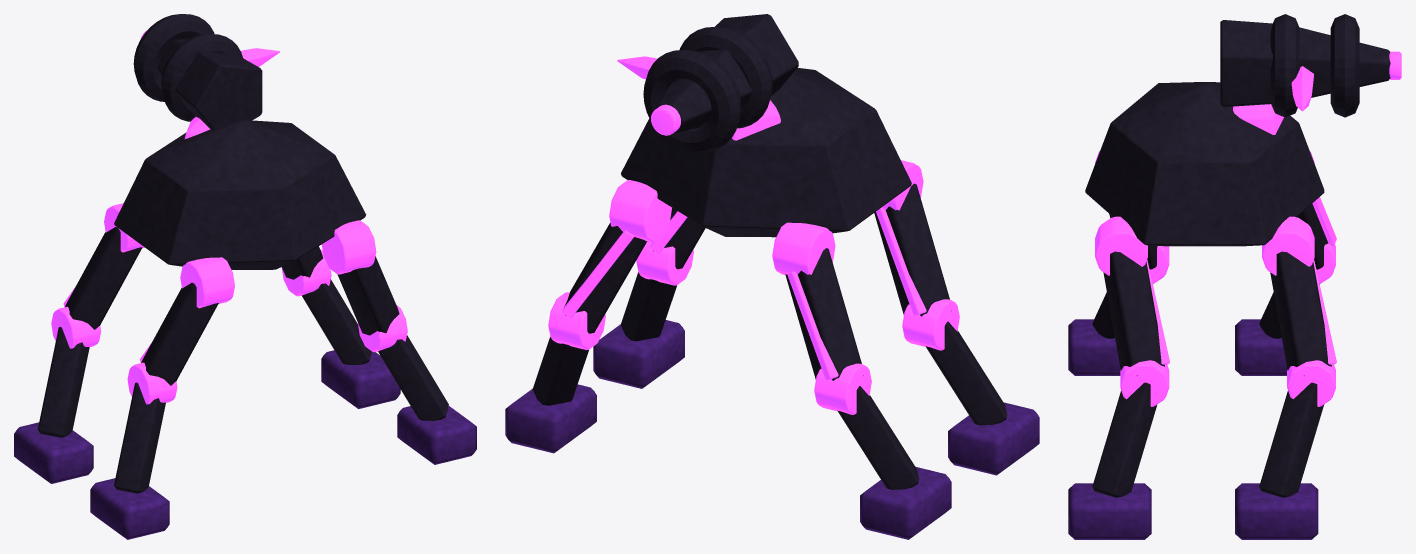
The model's file is conclave_geode.gltf.
3 renders of one model, left to right at view 1: azimuth 30°, elevation 25°; view 2: azimuth 150°, elevation 25°; view 3: azimuth 270°, elevation 25°, orthographic. The views are drawn at different scales.
Parts seen in each view (by area): view 1: Body.008_Geometry, GunRecoil.009_Geometry, Hip_L0_Geometry, Hip_R0_Geometry, Knee_L0_Geometry, Knee_L1_Geometry, Hip_L1_Geometry, Knee_R0_Geometry, Knee_R1_Geometry, Foot_L0_Geometry, Foot_L1_Geometry, Foot_R0_Geometry (+2 smaller); view 2: Body.008_Geometry, GunRecoil.009_Geometry, Hip_L1_Geometry, Hip_R1_Geometry, Hip_L0_Geometry, Knee_L0_Geometry, Knee_L1_Geometry, Foot_L0_Geometry, Foot_L1_Geometry, Knee_R1_Geometry, Foot_R1_Geometry, Foot_R0_Geometry (+2 smaller); view 3: Body.008_Geometry, GunRecoil.009_Geometry, Hip_R0_Geometry, Hip_R1_Geometry, Knee_R0_Geometry, Knee_R1_Geometry, Foot_R1_Geometry, Foot_R0_Geometry, Foot_L0_Geometry, Foot_L1_Geometry, Hip_L1_Geometry, Knee_L0_Geometry (+1 smaller).
Boxes of the visible parts, bbox=[...] form: Body.008_Geometry: bbox=[114, 117, 366, 269]; GunRecoil.009_Geometry: bbox=[133, 14, 279, 130]; Hip_L0_Geometry: bbox=[140, 257, 234, 385]; Hip_R0_Geometry: bbox=[321, 220, 399, 335]; Knee_L0_Geometry: bbox=[114, 362, 177, 493]; Knee_L1_Geometry: bbox=[37, 306, 101, 437]; Hip_L1_Geometry: bbox=[63, 203, 144, 329]; Knee_R0_Geometry: bbox=[358, 305, 448, 420]; Knee_R1_Geometry: bbox=[281, 249, 371, 364]; Foot_L0_Geometry: bbox=[90, 478, 169, 539]; Foot_L1_Geometry: bbox=[14, 422, 93, 483]; Foot_R0_Geometry: bbox=[397, 406, 476, 464]; Body.008_Geometry: bbox=[621, 67, 911, 237]; GunRecoil.009_Geometry: bbox=[617, 14, 798, 151]; Hip_L1_Geometry: bbox=[772, 222, 863, 380]; Hip_R1_Geometry: bbox=[562, 180, 671, 333]; Hip_L0_Geometry: bbox=[874, 160, 951, 316]; Knee_L0_Geometry: bbox=[902, 299, 1007, 425]; Knee_L1_Geometry: bbox=[814, 363, 919, 489]; Foot_L0_Geometry: bbox=[948, 402, 1039, 475]; Foot_L1_Geometry: bbox=[860, 466, 951, 539]; Knee_R1_Geometry: bbox=[532, 292, 605, 405]; Foot_R1_Geometry: bbox=[505, 384, 596, 453]; Foot_R0_Geometry: bbox=[593, 320, 684, 388]; Body.008_Geometry: bbox=[1085, 82, 1324, 246]; GunRecoil.009_Geometry: bbox=[1220, 14, 1401, 117]; Hip_R0_Geometry: bbox=[1095, 216, 1169, 375]; Hip_R1_Geometry: bbox=[1262, 216, 1336, 375]; Knee_R0_Geometry: bbox=[1092, 360, 1169, 497]; Knee_R1_Geometry: bbox=[1259, 360, 1335, 497]; Foot_R1_Geometry: bbox=[1235, 483, 1318, 539]; Foot_R0_Geometry: bbox=[1068, 483, 1151, 539]; Foot_L0_Geometry: bbox=[1068, 319, 1120, 375]; Foot_L1_Geometry: bbox=[1235, 319, 1287, 375]; Hip_L1_Geometry: bbox=[1297, 151, 1336, 269]; Knee_L0_Geometry: bbox=[1092, 246, 1169, 338].
Bounding box in the file's own units: 2.31 × 2.44 × 1.72.
Materials: 3 (2 with a texture image).
